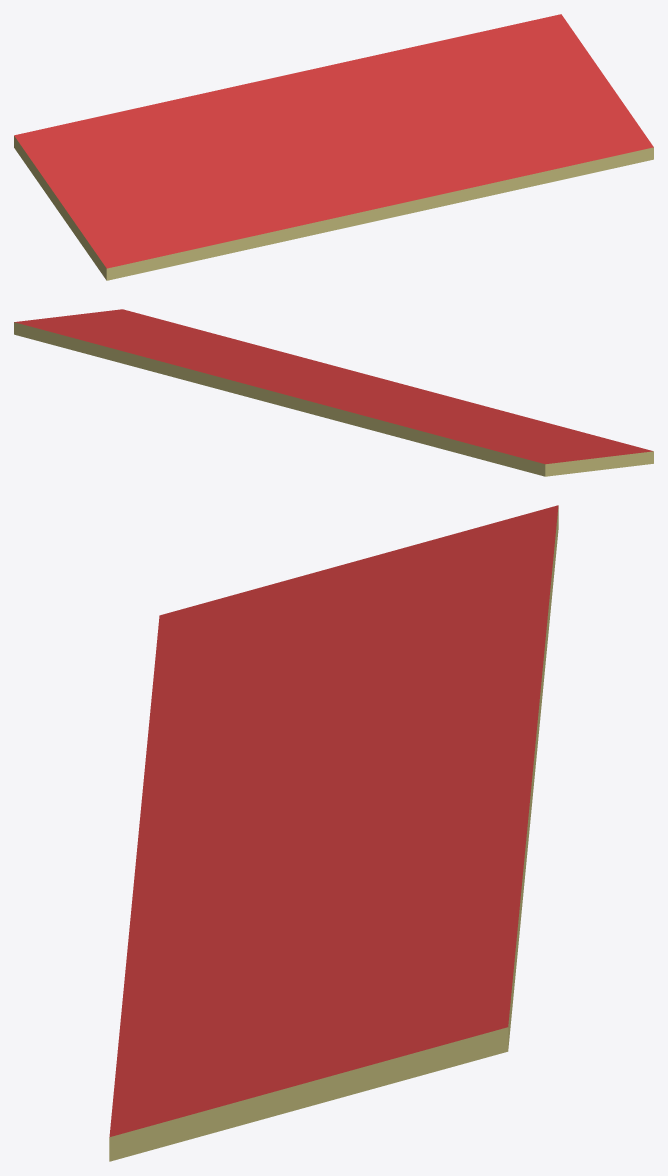
The picture shows the model from 3 angles, top to bottom: view 1: azimuth 30°, elevation 25°; view 2: azimuth 150°, elevation 25°; view 3: azimuth 270°, elevation 25°; orthographic projection. The views are drawn at different scales.
Bounding box in the file's own units: 4.63 × 1.66 × 0.578.
